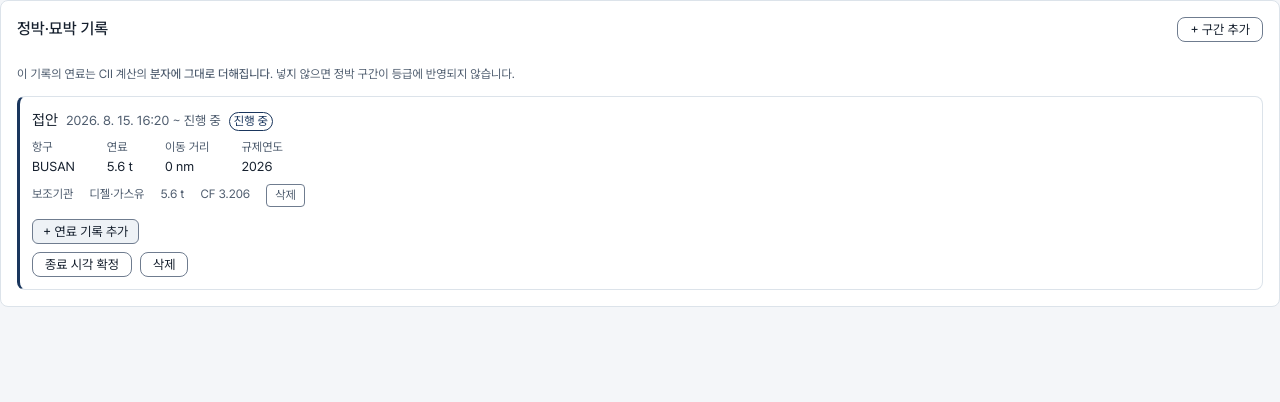
Test case: 지우기 전에 한 번 더 묻는다 (#2130 · 전수검수 D-11) › 한 행에 확인 줄은 하나다 — 두 「삭제하기」가 함께 서 있으면 무엇을 지우는지 읽히지 않는다
The width and height of the screenshot is (1280, 402).
Click the button with aria-label "연료 기록 삭제". click: (286, 195)
box: [266,184,305,207]
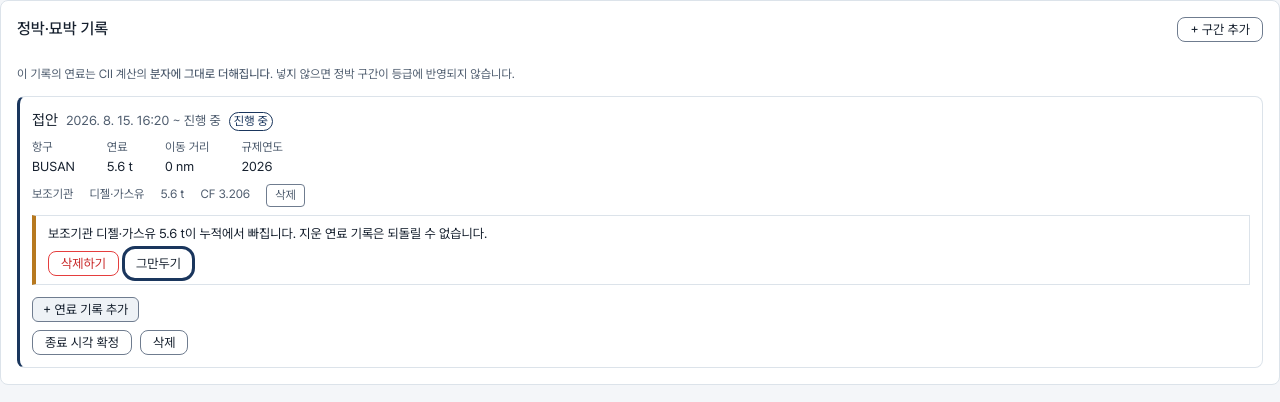
Click the button with test id "nu-remove". click: (164, 342)
box: [140,330,188,355]
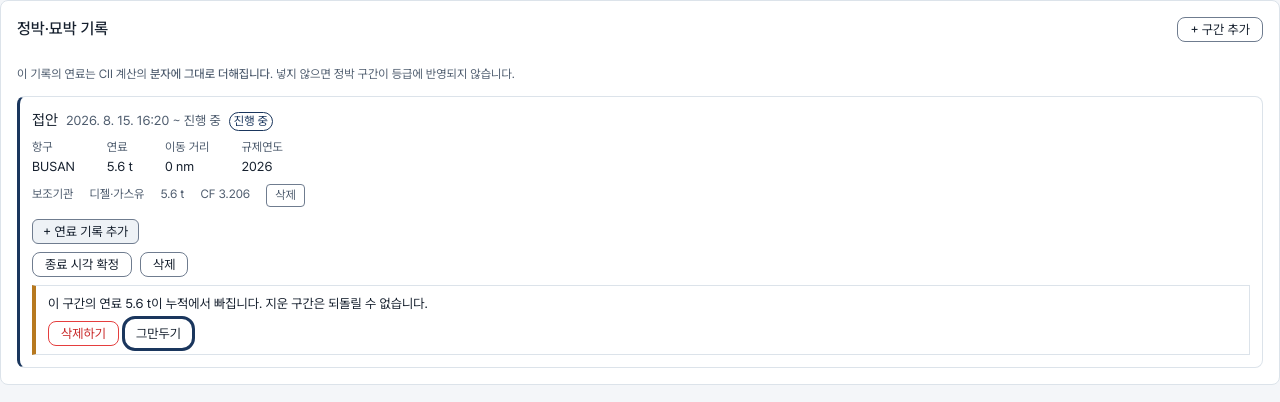
Check: the button with test id "nu-remove" is expanded, box [140,252,188,277]
